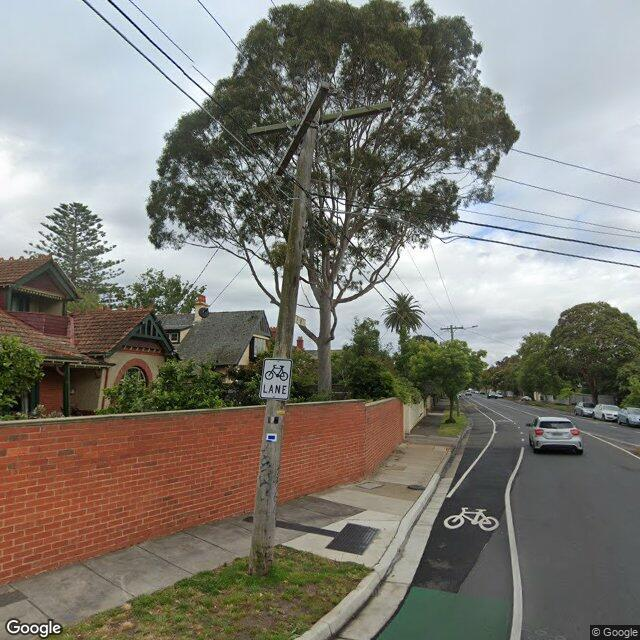crossarm: (275, 77, 332, 179), (246, 98, 394, 136), (439, 325, 465, 331)
streetlight: (465, 323, 479, 330)
timber-pole: (249, 99, 324, 578), (449, 324, 462, 416)
